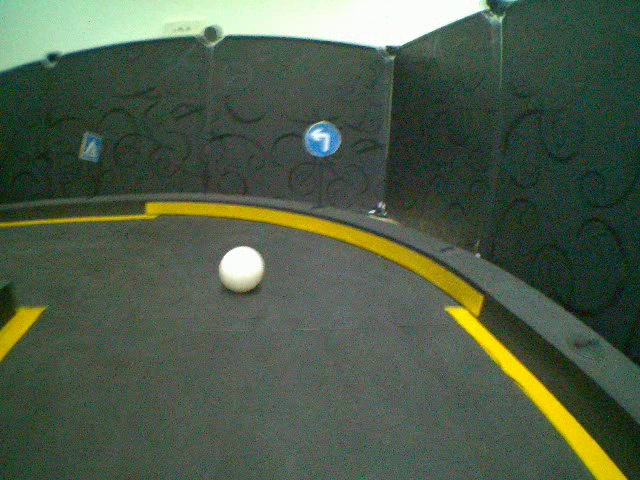ball: (217, 245, 266, 293)
